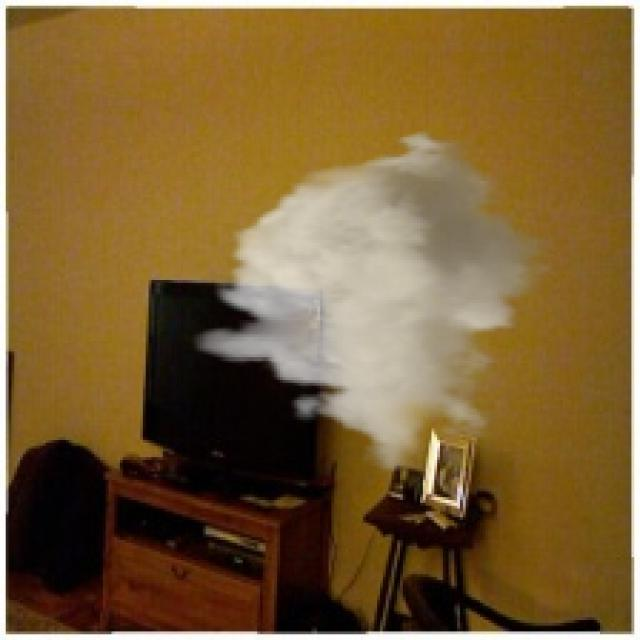smoke: (189, 129, 557, 474)
